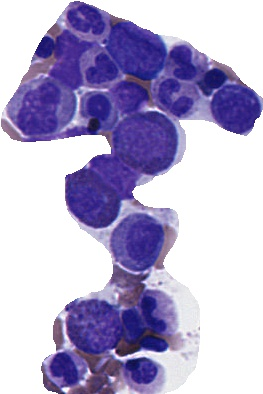objectness: (149, 72, 199, 122), (74, 40, 124, 90), (133, 287, 183, 337), (162, 38, 212, 88), (115, 214, 165, 264), (13, 81, 63, 131), (71, 298, 121, 348), (65, 171, 115, 221), (107, 23, 157, 73), (43, 30, 93, 80), (73, 82, 123, 132), (22, 24, 72, 74), (107, 70, 157, 120), (122, 117, 172, 167), (187, 55, 237, 105), (89, 147, 139, 197), (208, 84, 258, 134), (40, 346, 90, 394), (60, 0, 110, 45), (117, 352, 167, 394)
